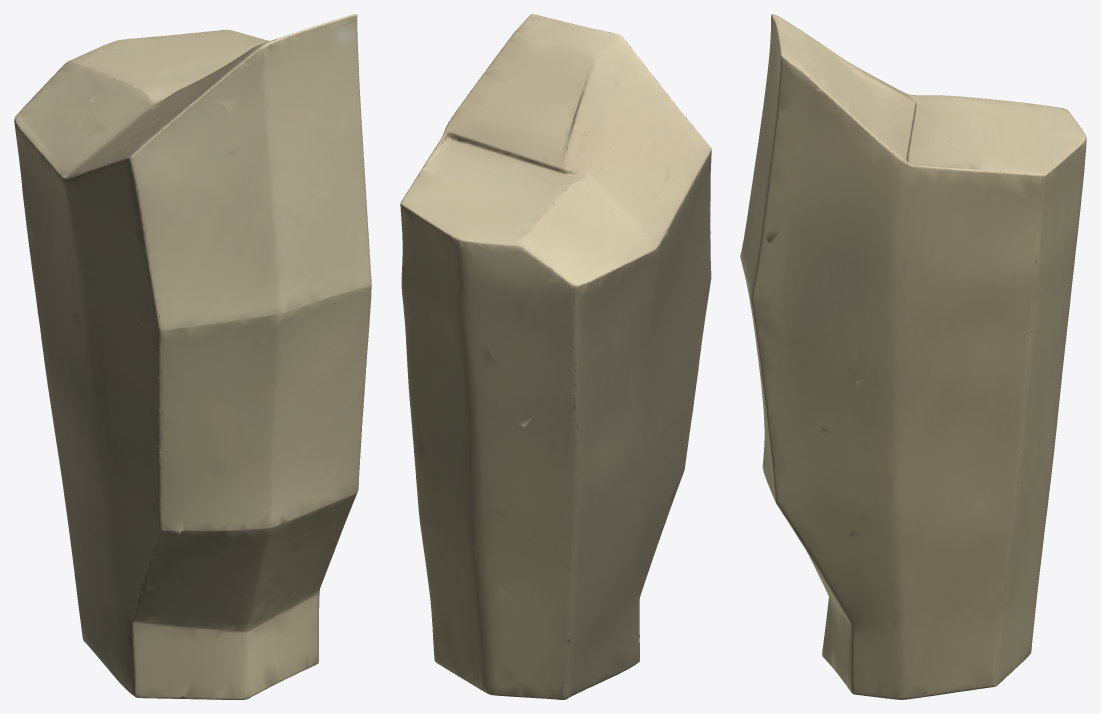
The model's file is musDer.obj.
The picture shows the model from 3 angles, left to right: view 1: azimuth 30°, elevation 25°; view 2: azimuth 150°, elevation 25°; view 3: azimuth 270°, elevation 25°; orthographic projection. The views are drawn at different scales.
Visible parts, largest first — view 1: model.005; view 2: model.005; view 3: model.005.
Boxes of the visible parts, x1,y1,x2,y2 form: model.005: [14, 14, 371, 699]; model.005: [400, 14, 711, 699]; model.005: [740, 14, 1086, 699].
Bounding box in the file's own units: 0.1451 × 0.3696 × 0.1805.
1 material, 1 textured.
